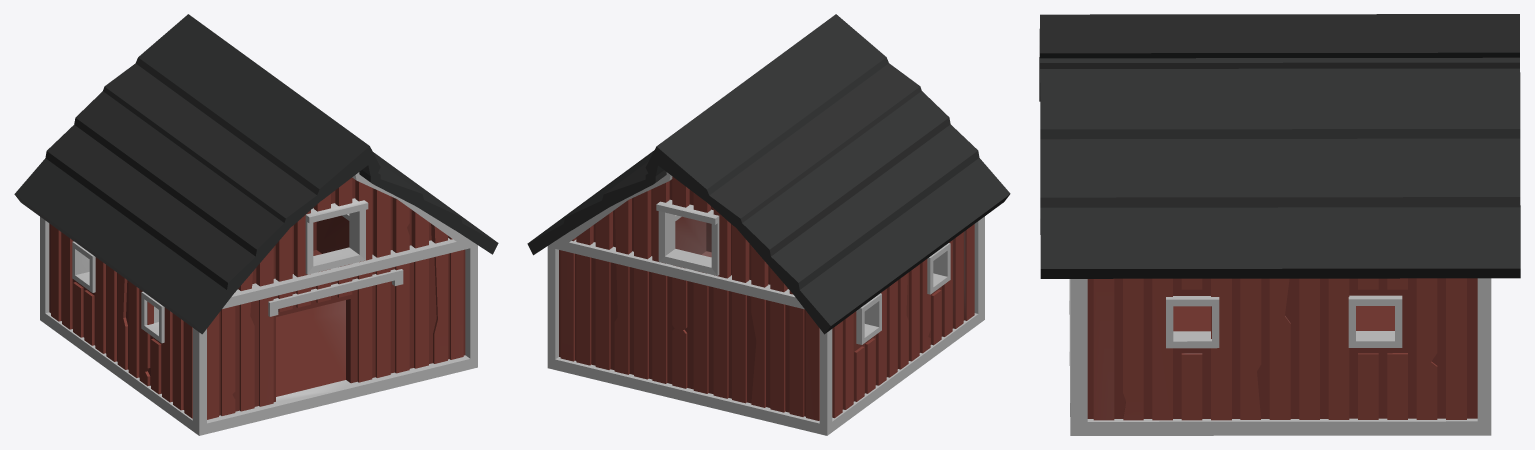
File: Small_Barn.fbx
The picture shows the model from 3 angles, left to right: view 1: azimuth 30°, elevation 25°; view 2: azimuth 150°, elevation 25°; view 3: azimuth 270°, elevation 25°; orthographic projection. The views are drawn at different scales.
Visible parts, largest first — view 1: Small_Barn; view 2: Small_Barn; view 3: Small_Barn.
Part boxes in pixels (<box>): Small_Barn: <box>14,14,498,435</box>; Small_Barn: <box>527,14,1010,435</box>; Small_Barn: <box>1039,14,1520,435</box>.
Size of the model in its own units: 1108 by 902 by 1143.
